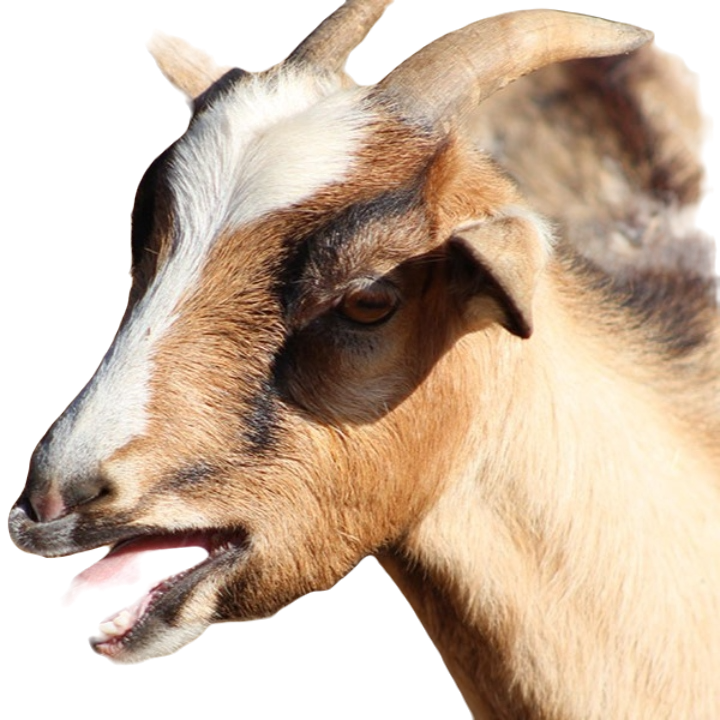Goat: (6, 0, 719, 720)
